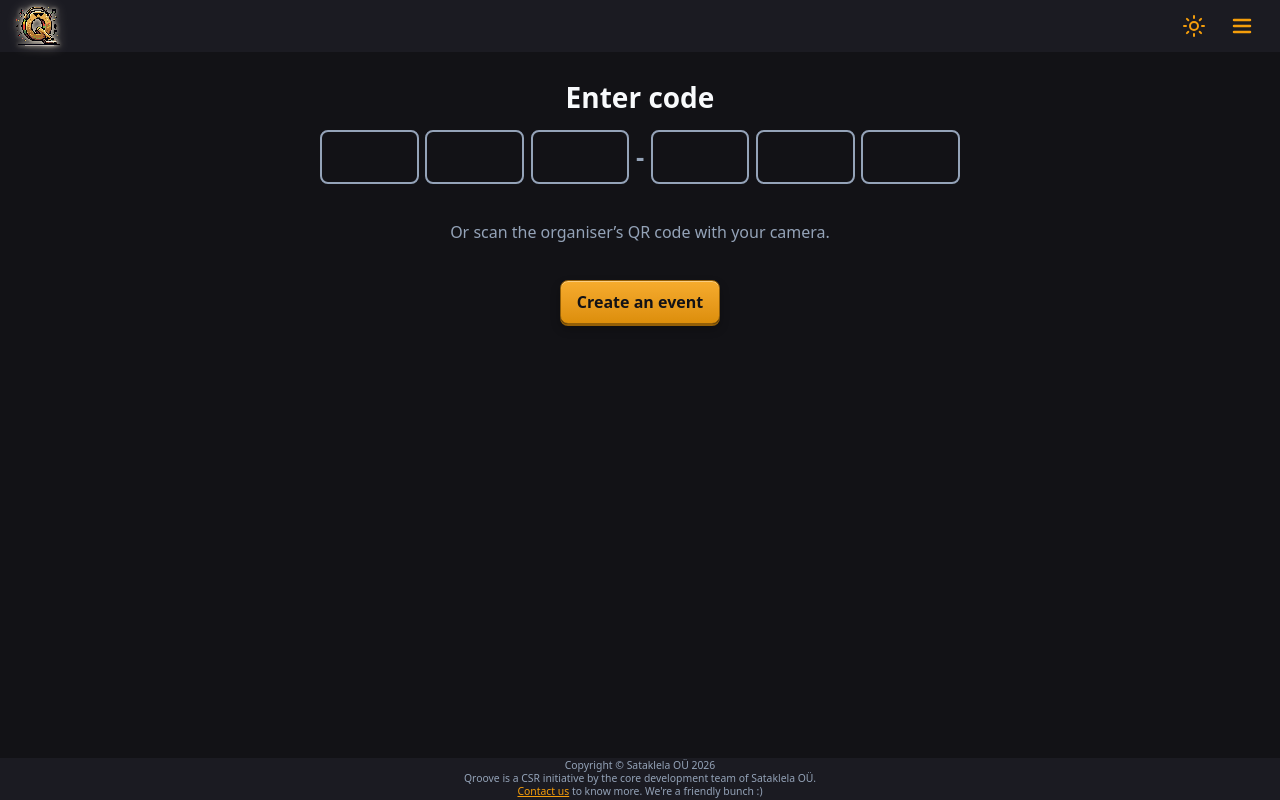
Landing › says plainly when no event has that code
Click the field named "Event code, character 1 of 6": x=369, y=157 top-left (320, 130), bottom-right (419, 184)
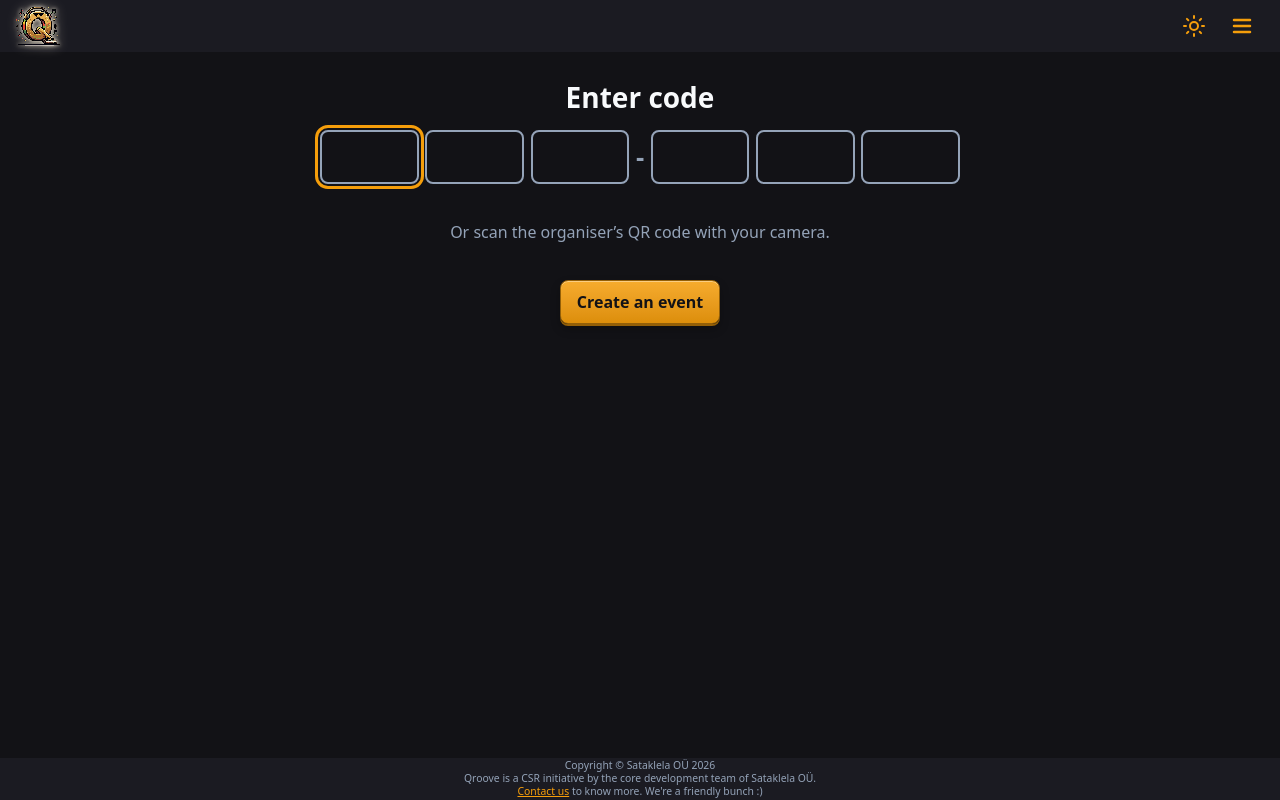
Type keys "ZZZZZZ"
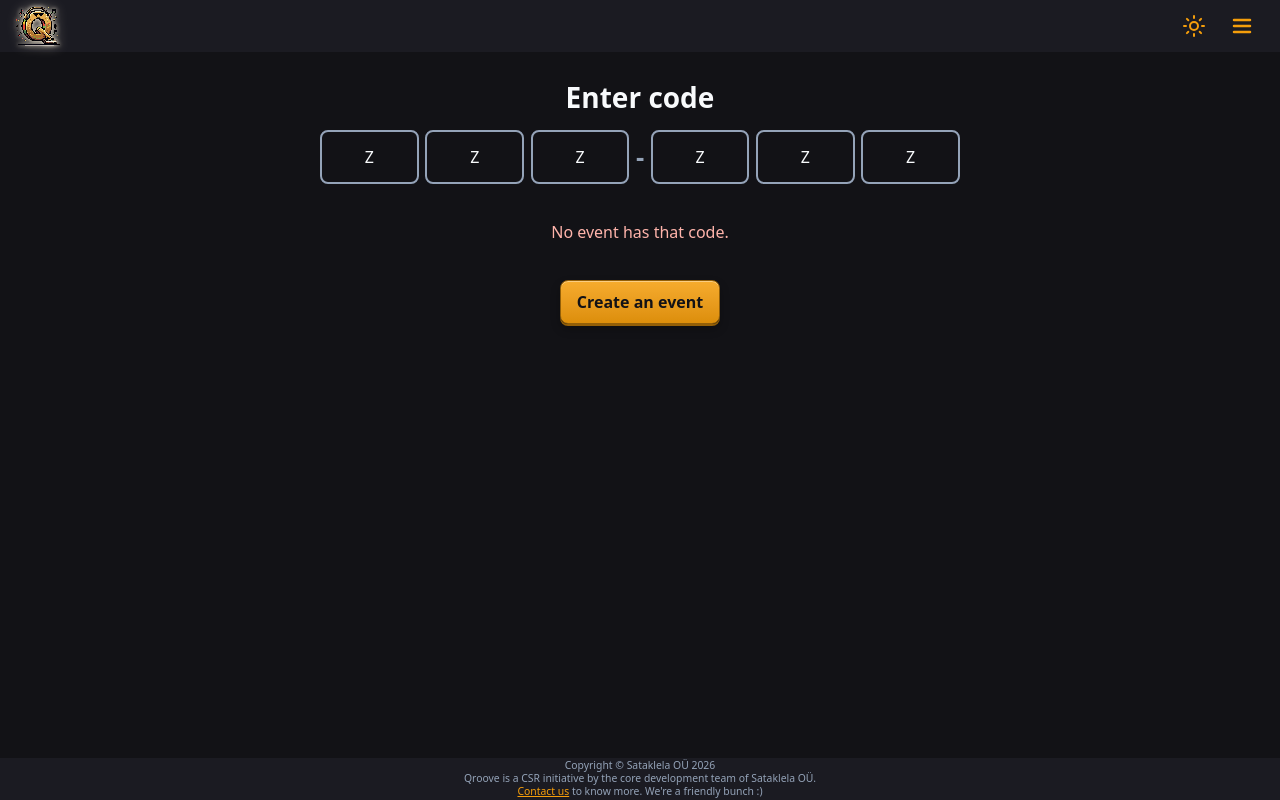
Expected: the text "No event has that code." is shown, top-left (551, 220), bottom-right (729, 244)
